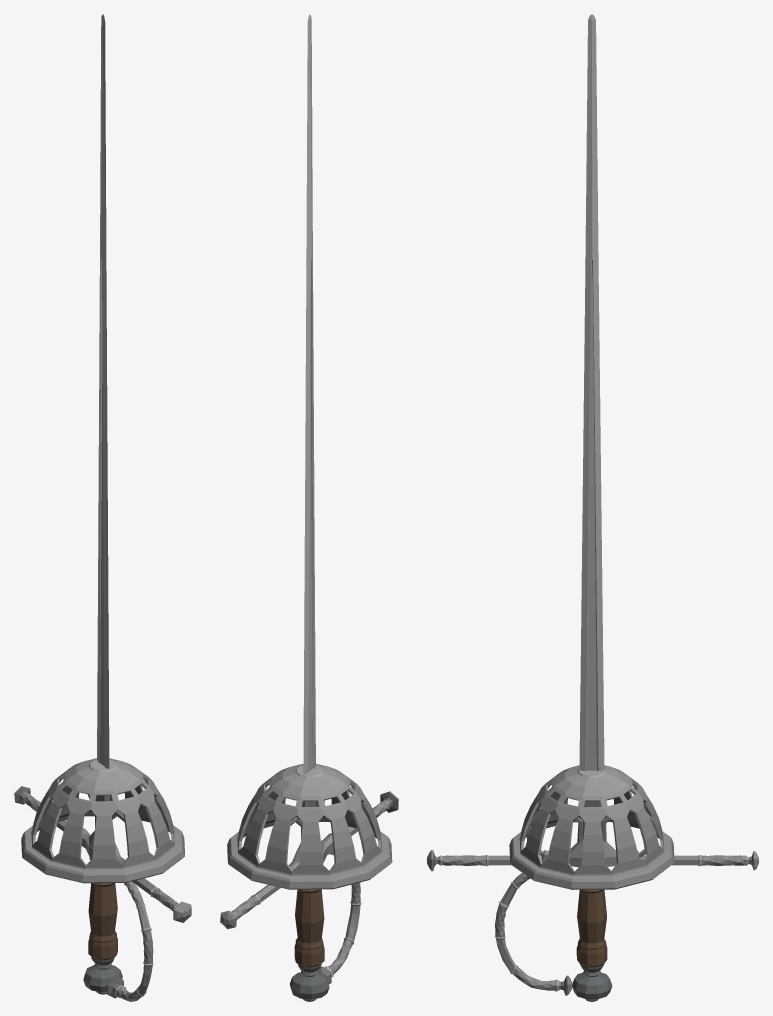
The model's file is bladedLightRapier.glb.
3 renders of one model, left to right at view 1: azimuth 30°, elevation 25°; view 2: azimuth 150°, elevation 25°; view 3: azimuth 270°, elevation 25°, orthographic.
Parts seen in each view (by area): view 1: bladedLightRapier; view 2: bladedLightRapier; view 3: bladedLightRapier.
Boxes of the visible parts, bbox=[...] form: bladedLightRapier: bbox=[14, 14, 191, 1001]; bladedLightRapier: bbox=[220, 14, 398, 1001]; bladedLightRapier: bbox=[427, 14, 758, 1001].
Size of the model in its own units: 0.1963 by 1.29 by 0.3942.
